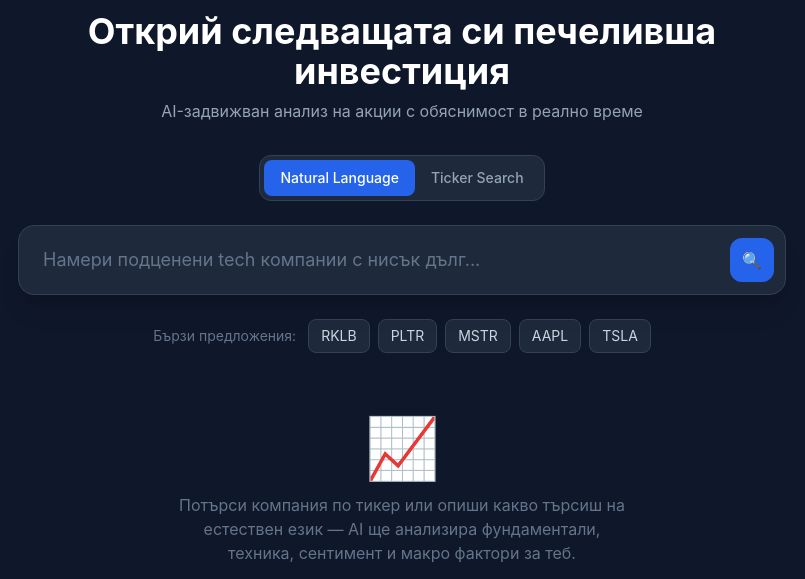
Test: shows ticker/company/type suggestions after typing in ticker mode
Step 1. Click the button "Ticker Search" → coordinates (477, 178), box [415, 160, 540, 196]
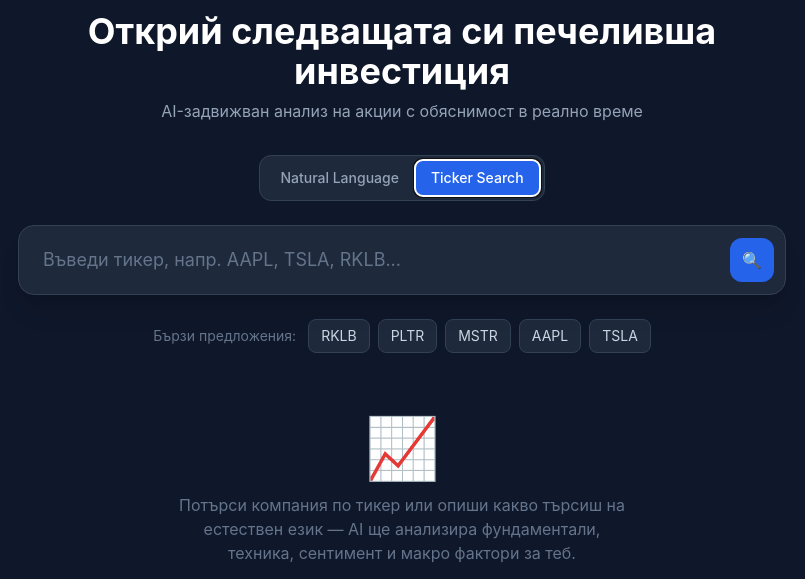
Step 2. Type "AAP" into the field with placeholder "Въведи тикер, напр. AAPL, TSLA, RKLB..." → coordinates (402, 260), box [18, 225, 786, 295]
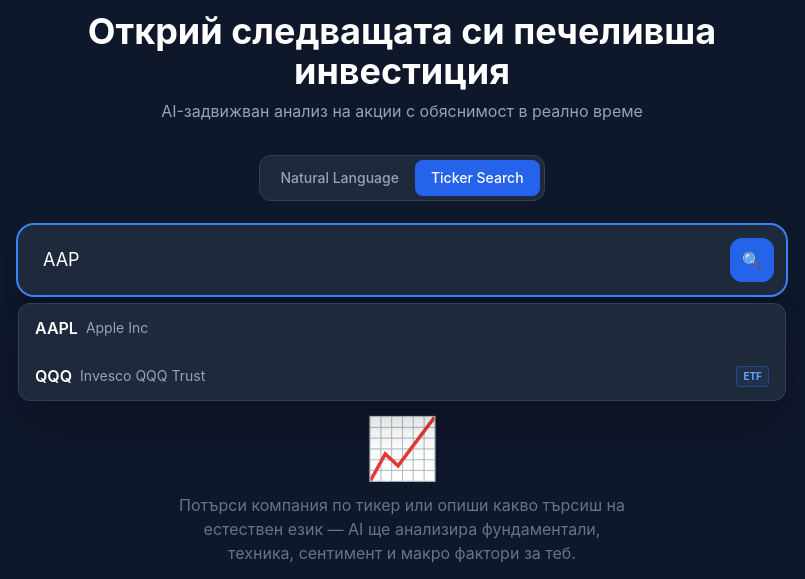
Now the text "Apple Inc" is shown, box [86, 318, 148, 338]
Now the text "Invesco QQQ Trust" is shown, box [80, 366, 205, 386]
Now the text "ETF" is shown, box [736, 366, 769, 386]
